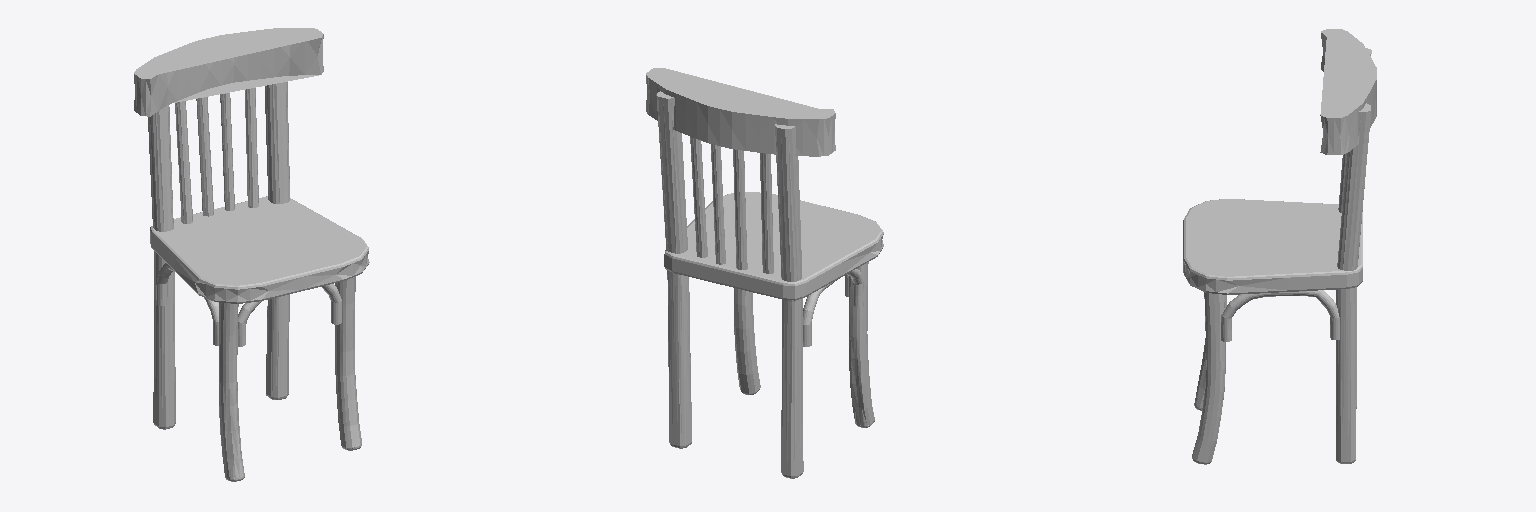
File: ChairTexture.obj
3 views of the same model, side by side, from view 1: azimuth 30°, elevation 25°; view 2: azimuth 150°, elevation 25°; view 3: azimuth 270°, elevation 25° (orthographic).
Visible parts, largest first — view 1: ChairSeat_HeadRest, ChairLegs; view 2: ChairLegs, ChairSeat_HeadRest; view 3: ChairSeat_HeadRest, ChairLegs.
Boxes of the visible parts, box(x1,y1,x2,y2) form: ChairSeat_HeadRest: box(134, 28, 369, 303); ChairLegs: box(148, 82, 361, 481); ChairLegs: box(656, 91, 874, 478); ChairSeat_HeadRest: box(646, 68, 883, 300); ChairSeat_HeadRest: box(1183, 29, 1376, 294); ChairLegs: box(1192, 48, 1371, 464).
Size of the model in its own units: 54.53 by 104 by 49.8.